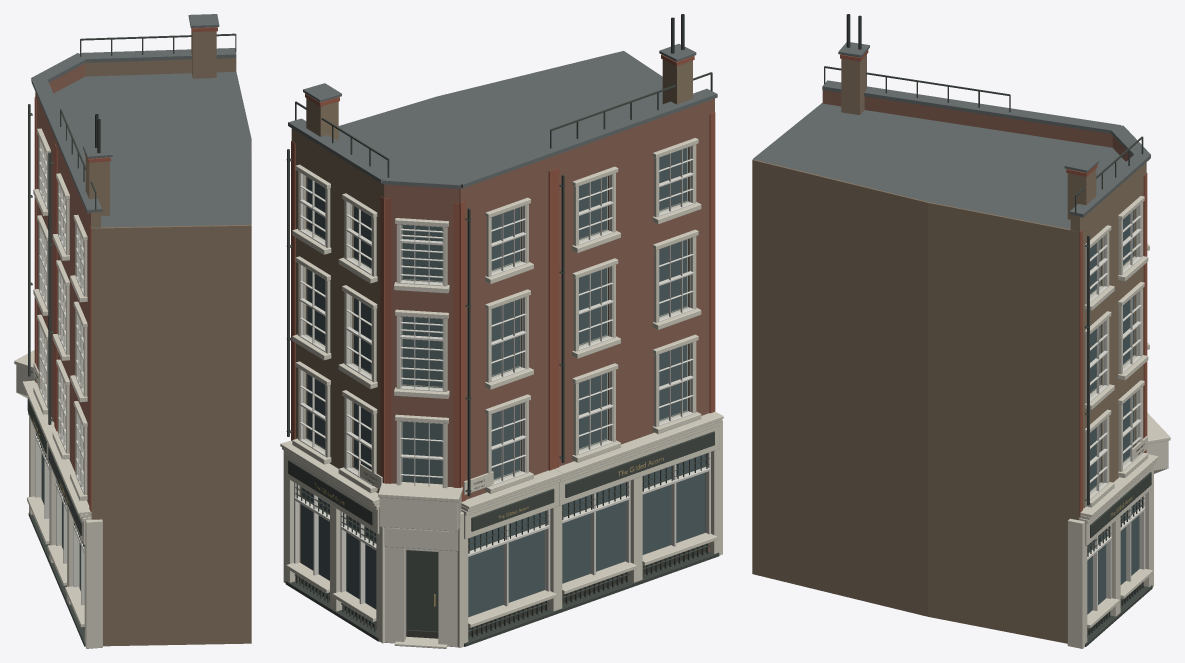
Rendered from por-exterior-1f6fdd268985.glb.
3 views of the same model, side by side, from view 1: azimuth 30°, elevation 25°; view 2: azimuth 150°, elevation 25°; view 3: azimuth 270°, elevation 25° (orthographic). The views are drawn at different scales.
Parts seen in each view (by area): view 1: POR.001; view 2: POR.001; view 3: POR.001.
Boxes of the visible parts, x1,y1,x2,y2 form: POR.001: (14, 14, 251, 648); POR.001: (280, 14, 723, 648); POR.001: (752, 14, 1170, 648).
Size of the model in its own units: 10.36 by 17.58 by 13.1.
